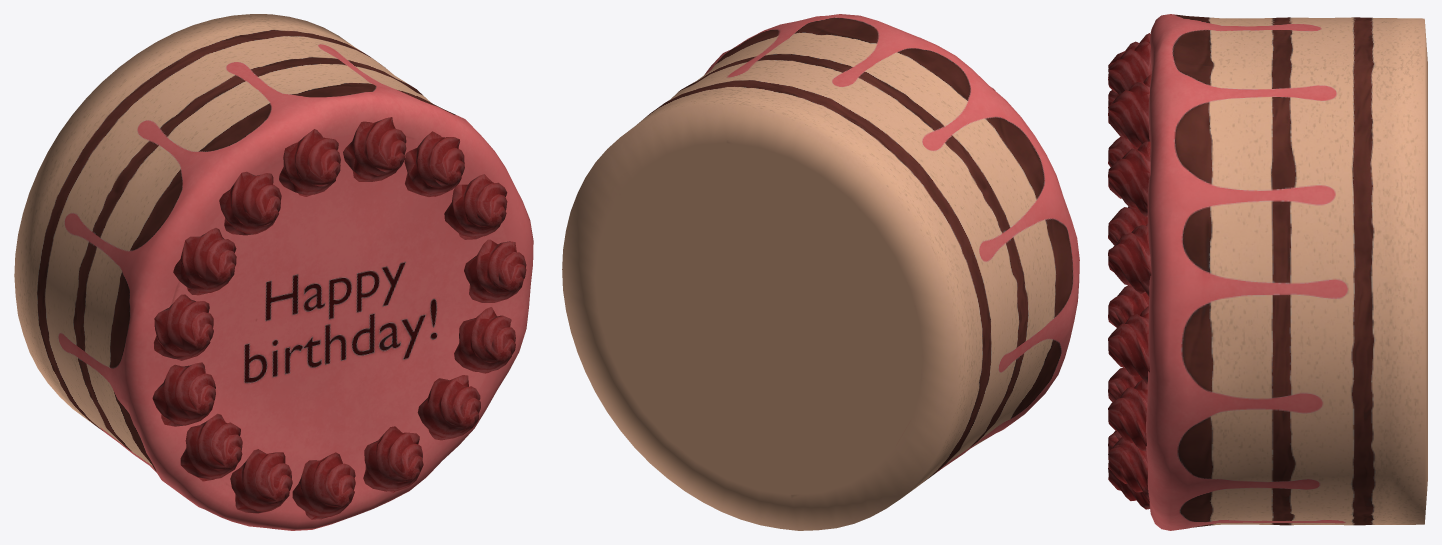
File: Cake.glb
3 renders of one model, left to right at view 1: azimuth 30°, elevation 25°; view 2: azimuth 150°, elevation 25°; view 3: azimuth 270°, elevation 25°, orthographic. The views are drawn at different scales.
Parts seen in each view (by area): view 1: Cake.001; view 2: Cake.001; view 3: Cake.001.
Boxes of the visible parts, x1,y1,x2,y2 form: Cake.001: (14, 14, 533, 530); Cake.001: (562, 14, 1079, 530); Cake.001: (1108, 14, 1427, 530).
Size of the model in its own units: 0.4963 by 0.4926 by 0.3045.
Materials: 1 (1 with a texture image).
